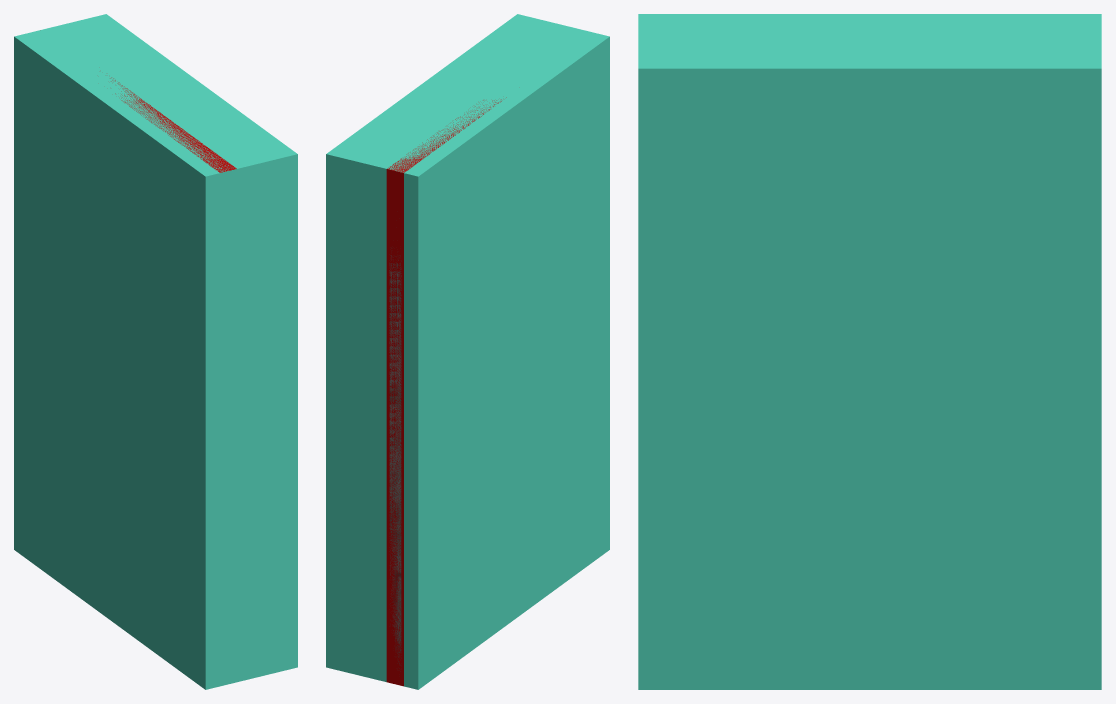
Rendered from SciFi_wall_baydoor.DAE.
The picture shows the model from 3 angles, left to right: view 1: azimuth 30°, elevation 25°; view 2: azimuth 150°, elevation 25°; view 3: azimuth 270°, elevation 25°; orthographic projection. The views are drawn at different scales.
Parts seen in each view (by area): view 1: bounds, colbox-01; view 2: bounds, colbox-01, LP_wall_bay_door; view 3: bounds.
Part boxes in pixels (bbox=[...]): bounds: bbox=[14, 14, 297, 689]; colbox-01: bbox=[110, 77, 236, 172]; bounds: bbox=[326, 14, 609, 689]; colbox-01: bbox=[386, 97, 506, 686]; LP_wall_bay_door: bbox=[389, 248, 401, 671]; bounds: bbox=[638, 14, 1101, 689].
Bounding box in the file's own units: 188 × 676 × 1000.
